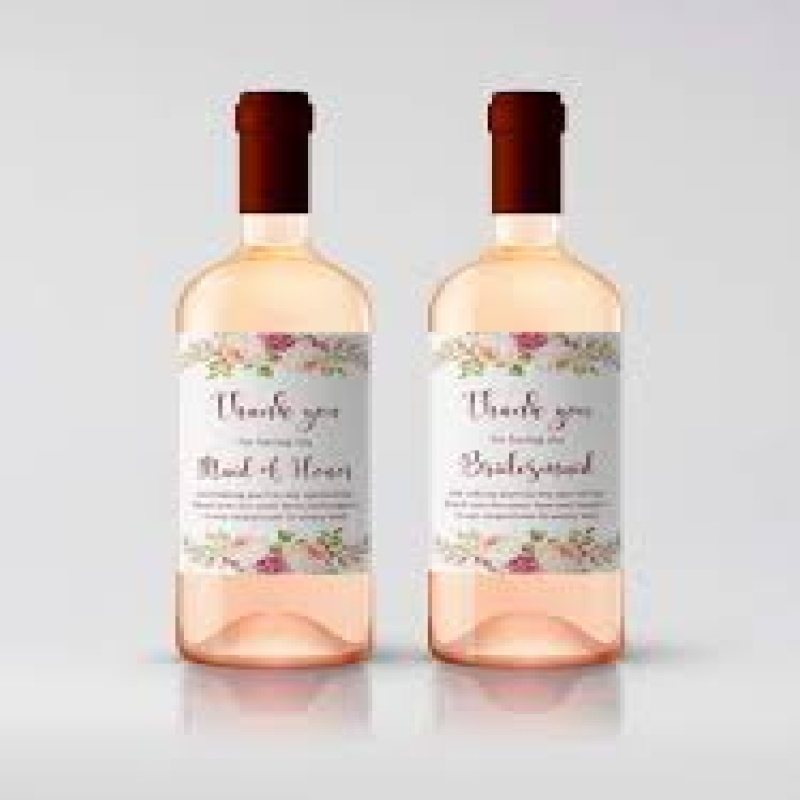wine: (420, 80, 632, 660), (178, 92, 380, 666)
